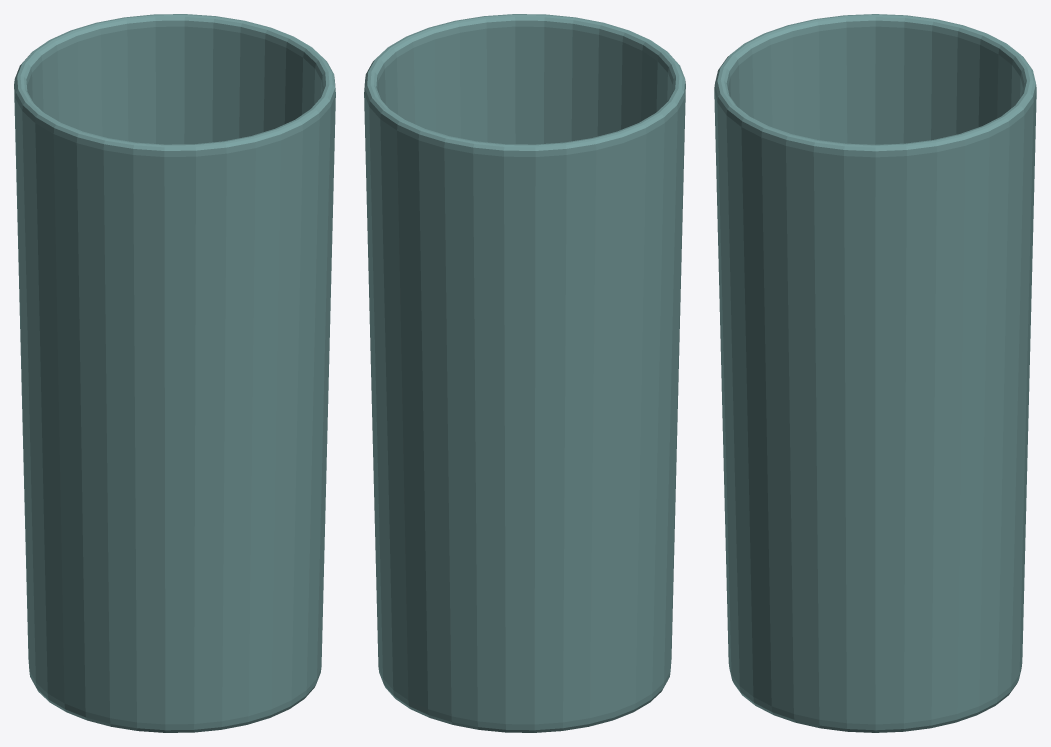
File: highball-glass.obj
The picture shows the model from 3 angles, left to right: view 1: azimuth 30°, elevation 25°; view 2: azimuth 150°, elevation 25°; view 3: azimuth 270°, elevation 25°; orthographic projection.
Visible parts, largest first — view 1: highball_glass; view 2: highball_glass; view 3: highball_glass.
Part boxes in pixels (x1,y1,x2,y2): highball_glass: (14, 14, 335, 732); highball_glass: (364, 14, 685, 732); highball_glass: (714, 14, 1036, 732).
Bounding box in the file's own units: 0.4488 × 0.9119 × 0.4488.
